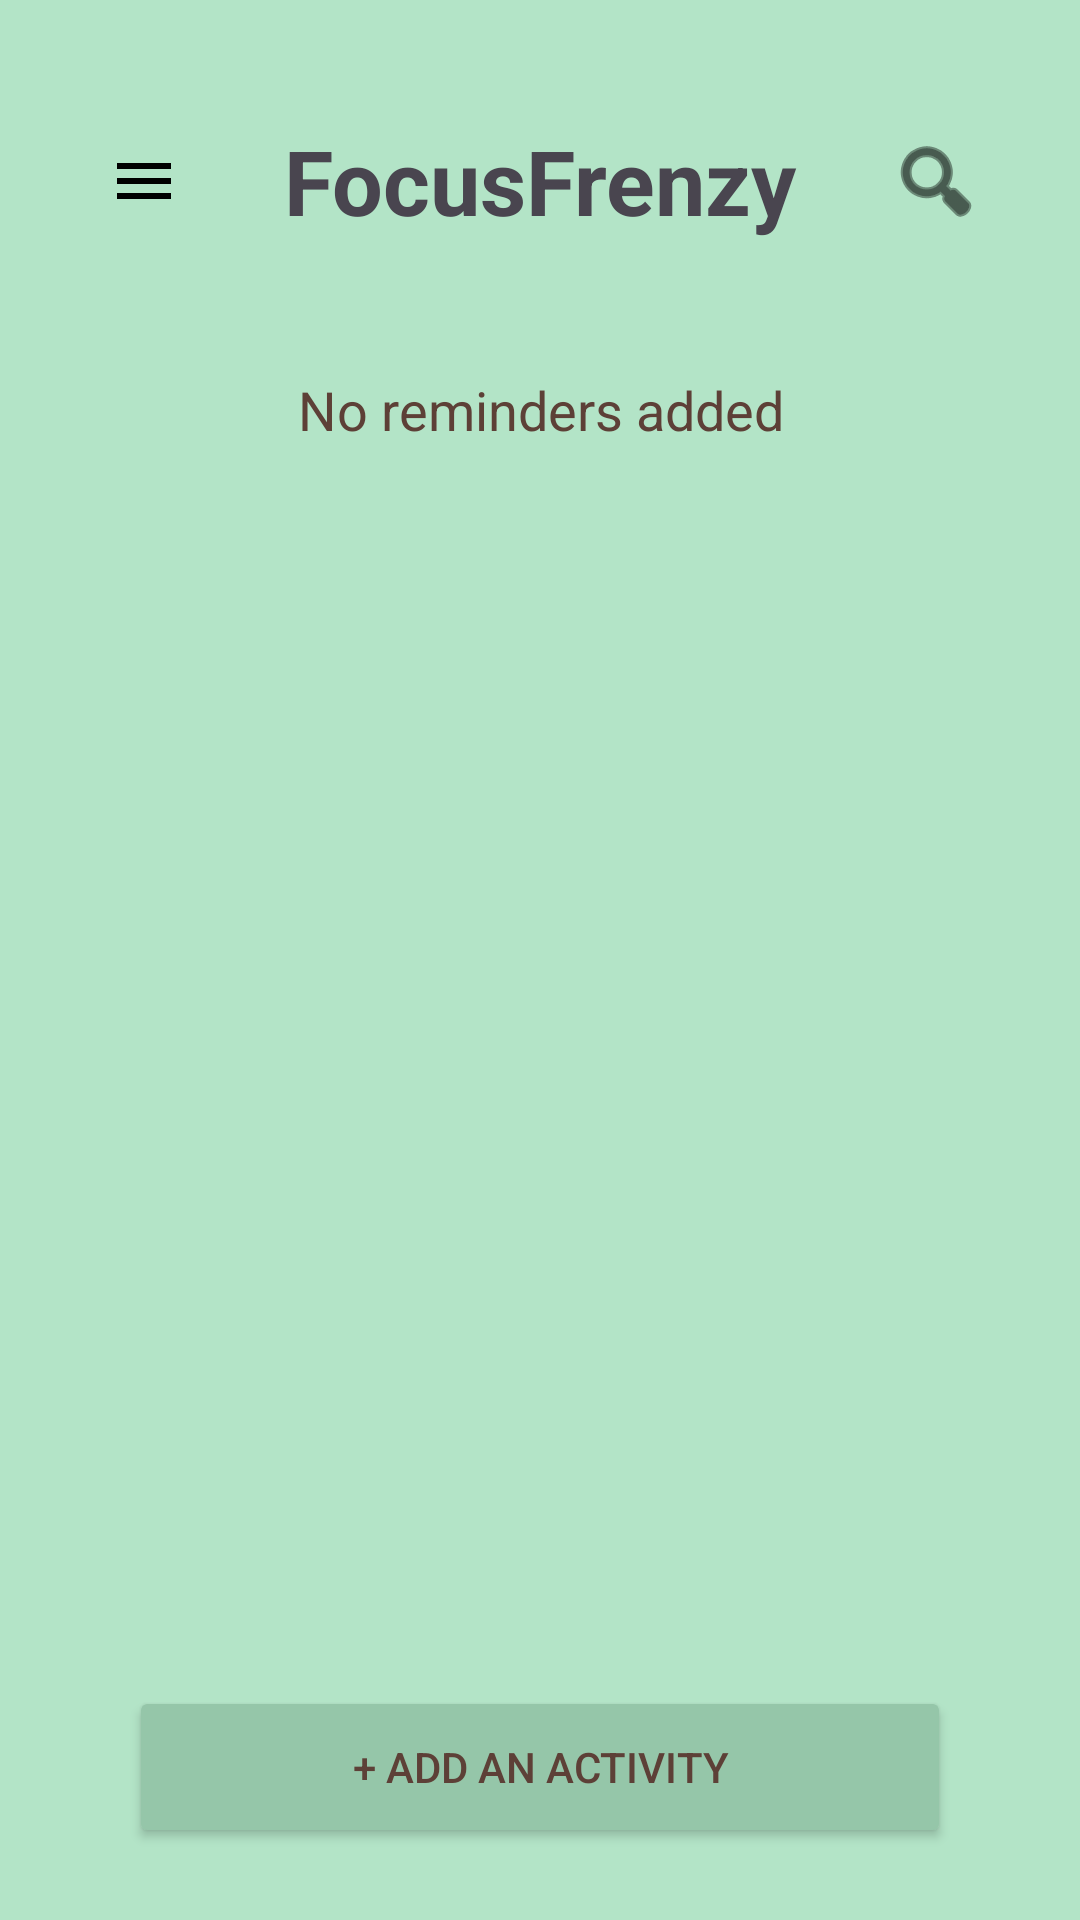

Point at icon controls on the screen. Image size 1080 x 1920, points as [x,y].
Search For Reminders: [936,181]
